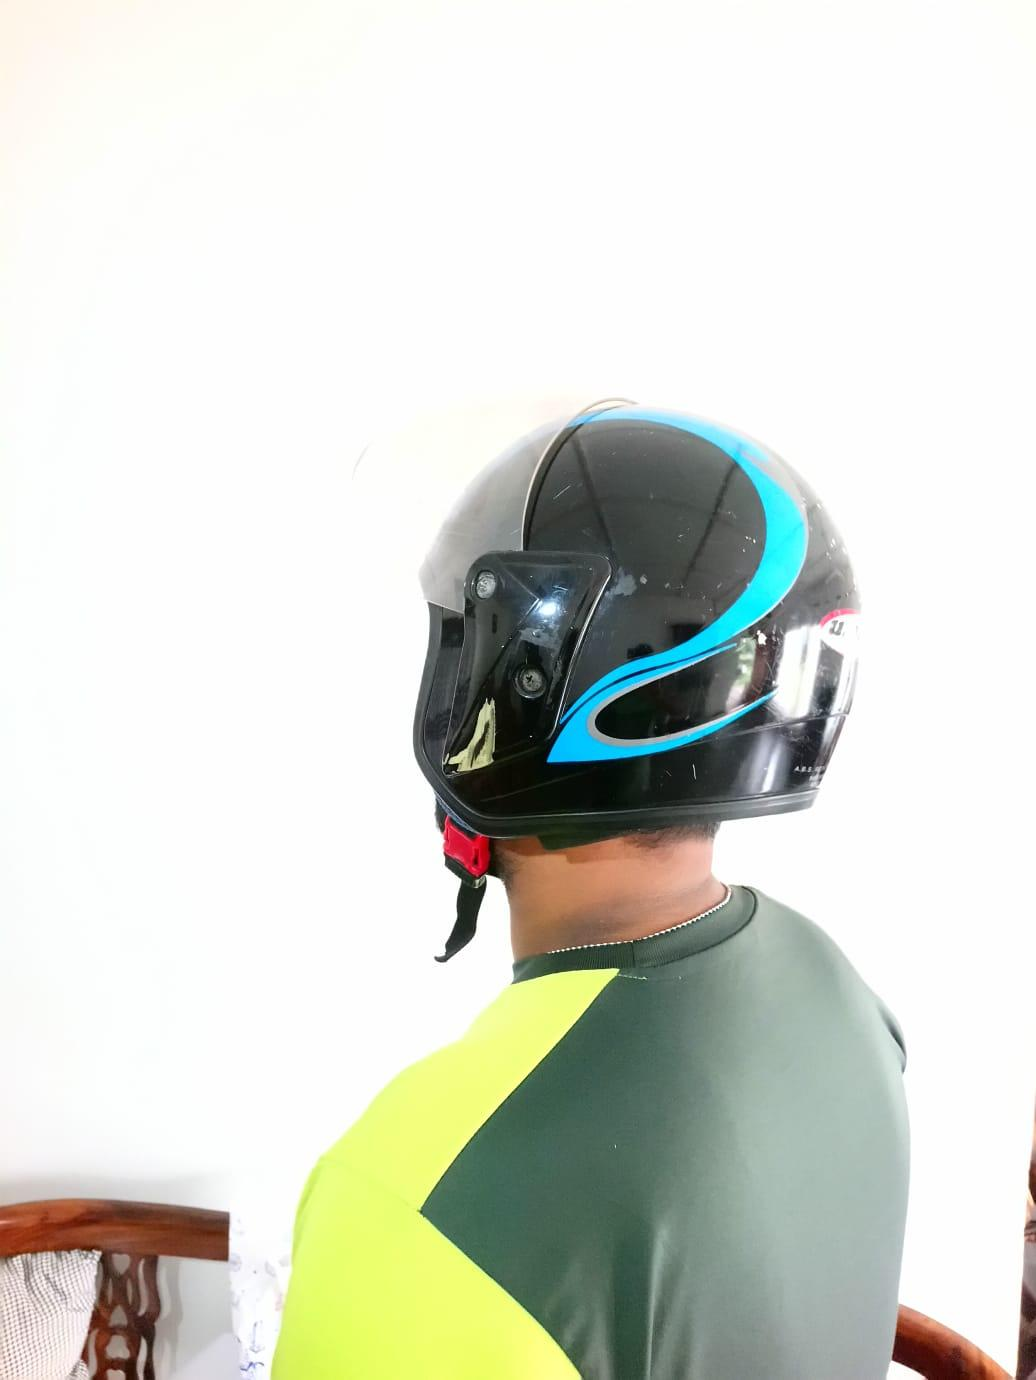helmet: (399, 396, 867, 840)
